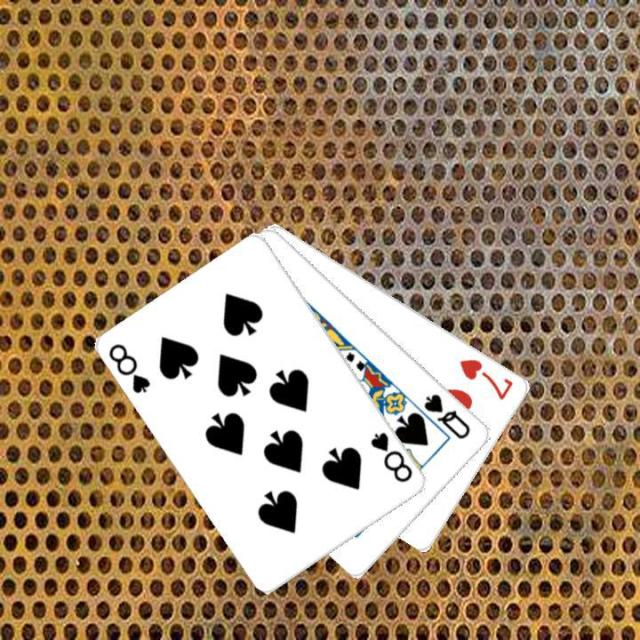7H: (456, 354, 516, 402)
8S: (367, 428, 415, 484), (105, 340, 153, 396)
QS: (420, 389, 473, 441)
